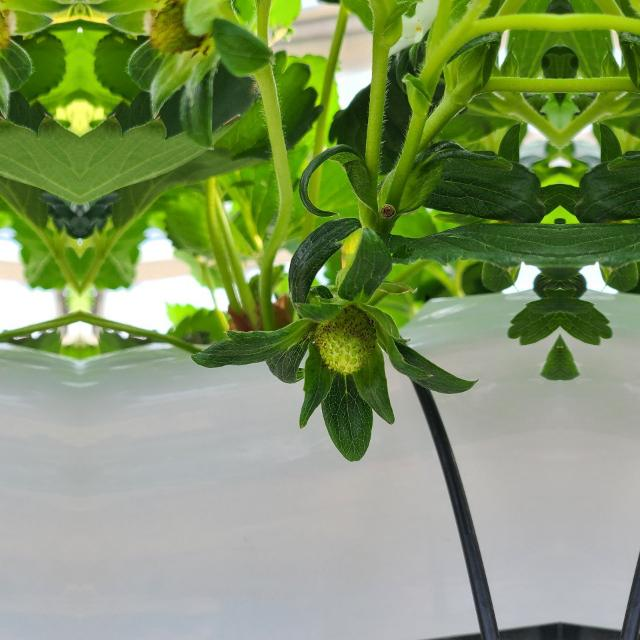Health_25: (316, 306, 376, 372)
